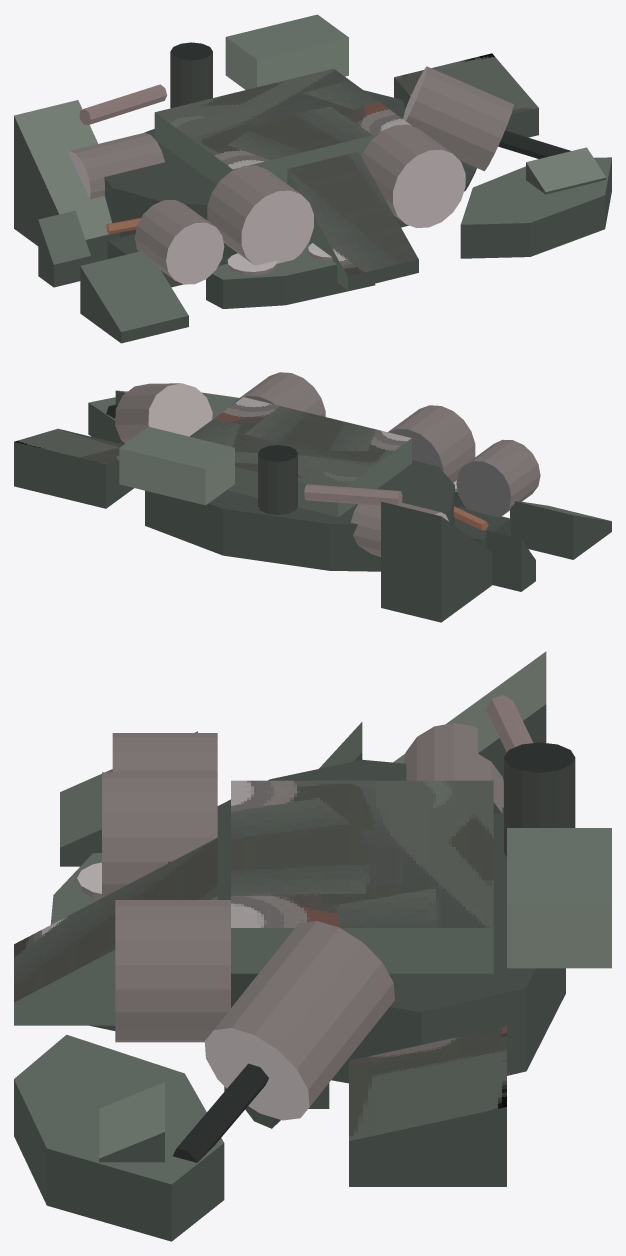
Rendered from Building_AncientMiniWarwalkerRemains.glb.
3 views of the same model, one above another, from view 1: azimuth 30°, elevation 25°; view 2: azimuth 150°, elevation 25°; view 3: azimuth 270°, elevation 25° (orthographic). The views are drawn at different scales.
Visible parts, largest first — view 1: AncientMiniWarwalkerRemains; view 2: AncientMiniWarwalkerRemains; view 3: AncientMiniWarwalkerRemains.
Part boxes in pixels (x1,y1,x2,y2): AncientMiniWarwalkerRemains: (14, 14, 611, 343); AncientMiniWarwalkerRemains: (14, 372, 611, 622); AncientMiniWarwalkerRemains: (14, 651, 611, 1241).
Size of the model in its own units: 4.84 by 1.2 by 2.84.
1 material, 1 textured.
